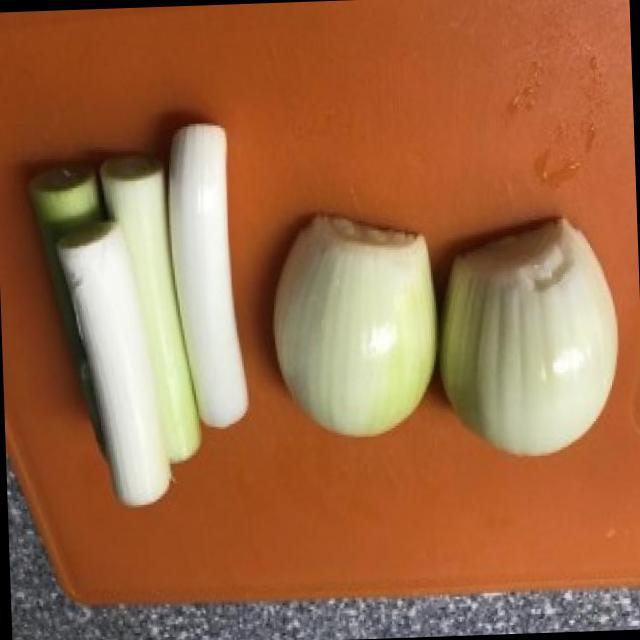Onion: (440, 218, 618, 454), (267, 217, 434, 435)
